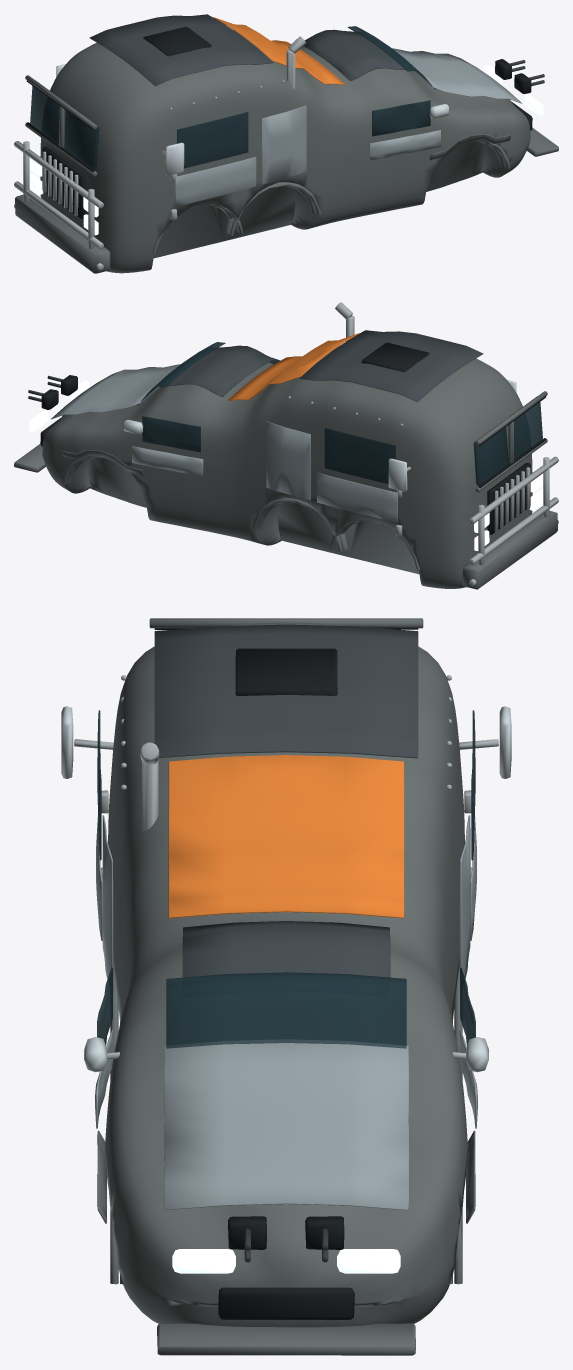
Rendered from blackjack_production_v2_lod1.glb.
3 renders of one model, top to bottom at view 1: azimuth 30°, elevation 25°; view 2: azimuth 150°, elevation 25°; view 3: azimuth 270°, elevation 25°, orthographic. The views are drawn at different scales.
Visible parts, largest first — view 1: Body_MainShell.002, Body_ArmoredRoof.002, Body_SidePanel_R.002, Body_InterceptorHood.002, Glass_ArmoredSide_1.002, Body_InterceptorRoof.002, Armor_RuggedBumper.002, Body_ArmoredDoor_R.002, Body_CenterTransition.002, Glass_InterceptorSide_1.002, Glass_ArmoredWindshield_1.002, Body_InterceptorDoor_R.002 (+14 smaller); view 2: Body_MainShell.002, Body_ArmoredRoof.002, Body_SidePanel_L.002, Body_InterceptorHood.002, Body_InterceptorRoof.002, Glass_ArmoredSide_-1.002, Armor_RuggedBumper.002, Body_ArmoredDoor_L.002, Body_CenterTransition.002, Glass_InterceptorSide_-1.002, Glass_ArmoredWindshield_-1.002, Body_InterceptorDoor_L.002 (+13 smaller); view 3: Body_MainShell.002, Body_InterceptorHood.002, Body_CenterTransition.002, Body_ArmoredRoof.002, Glass_InterceptorWindshield.002, Body_InterceptorRoof.002, Armor_InterceptorSplitter.002, Vent_RuggedRoof.002, Grille_InterceptorAirDam.002, Windshield_RuggedHeader.002, Body_SidePanel_R.002, Body_SidePanel_L.002 (+7 smaller).
Part boxes in pixels (box(x1,y1,x2,y2)): Body_MainShell.002: box(40, 30, 530, 273); Body_ArmoredRoof.002: box(89, 14, 273, 86); Body_SidePanel_R.002: box(262, 105, 306, 184); Body_InterceptorHood.002: box(392, 48, 521, 103); Glass_ArmoredSide_1.002: box(177, 112, 248, 168); Body_InterceptorRoof.002: box(303, 29, 405, 81); Armor_RuggedBumper.002: box(15, 195, 110, 273); Body_ArmoredDoor_R.002: box(175, 156, 256, 206); Body_CenterTransition.002: box(213, 17, 345, 85); Glass_InterceptorSide_1.002: box(372, 100, 430, 136); Glass_ArmoredWindshield_1.002: box(64, 106, 99, 169); Body_InterceptorDoor_R.002: box(369, 130, 440, 160); Body_MainShell.002: box(42, 346, 532, 588); Body_ArmoredRoof.002: box(299, 330, 483, 401); Body_SidePanel_L.002: box(266, 421, 310, 500); Body_InterceptorHood.002: box(51, 364, 180, 419); Body_InterceptorRoof.002: box(167, 345, 274, 397); Glass_ArmoredSide_-1.002: box(324, 428, 395, 484); Armor_RuggedBumper.002: box(462, 511, 557, 589); Body_ArmoredDoor_L.002: box(316, 472, 397, 522); Body_CenterTransition.002: box(227, 333, 359, 400); Glass_InterceptorSide_-1.002: box(142, 416, 200, 452); Glass_ArmoredWindshield_-1.002: box(473, 421, 508, 485); Body_InterceptorDoor_L.002: box(132, 446, 203, 476); Body_MainShell.002: box(104, 622, 468, 1327); Body_InterceptorHood.002: box(164, 1039, 408, 1210); Body_CenterTransition.002: box(168, 755, 404, 918); Body_ArmoredRoof.002: box(154, 624, 418, 758); Glass_InterceptorWindshield.002: box(166, 972, 406, 1048); Body_InterceptorRoof.002: box(182, 921, 390, 977); Armor_InterceptorSplitter.002: box(157, 1323, 415, 1355); Vent_RuggedRoof.002: box(235, 648, 337, 695); Grille_InterceptorAirDam.002: box(218, 1287, 354, 1319); Windshield_RuggedHeader.002: box(149, 618, 423, 628); Body_SidePanel_R.002: box(102, 815, 113, 991); Body_SidePanel_L.002: box(459, 815, 470, 978).
Size of the model in its own units: 2.35 by 0.9387 by 0.955.
